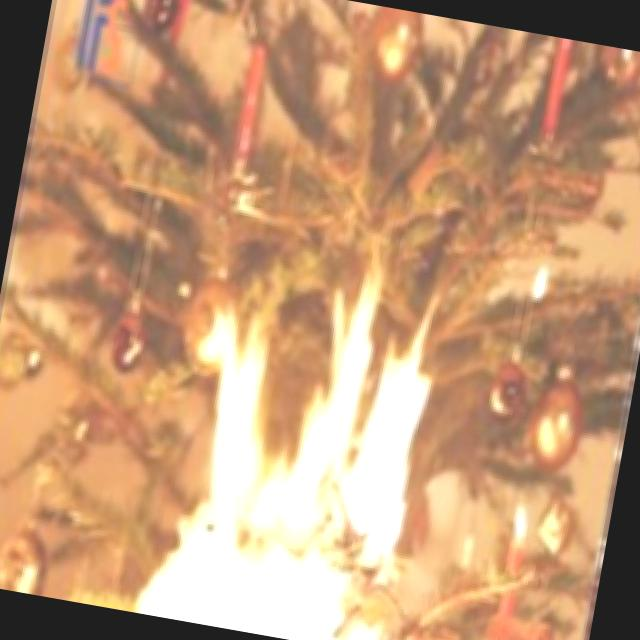fire: (133, 257, 490, 640)
